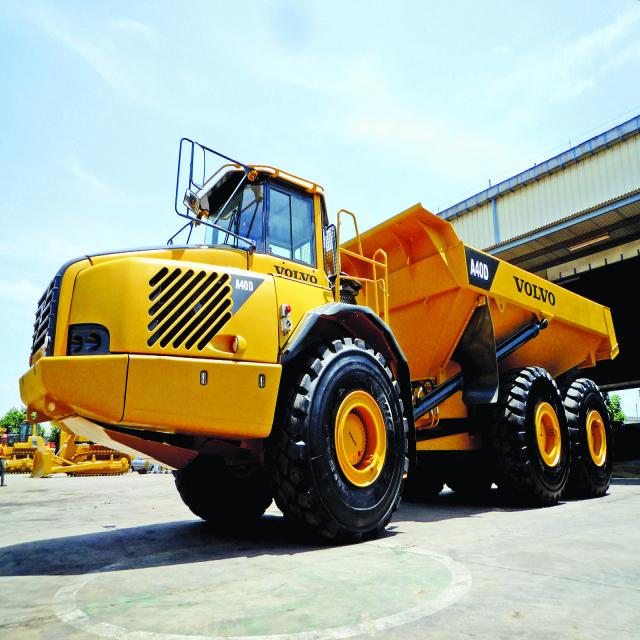dump_truck: (26, 149, 632, 534)
